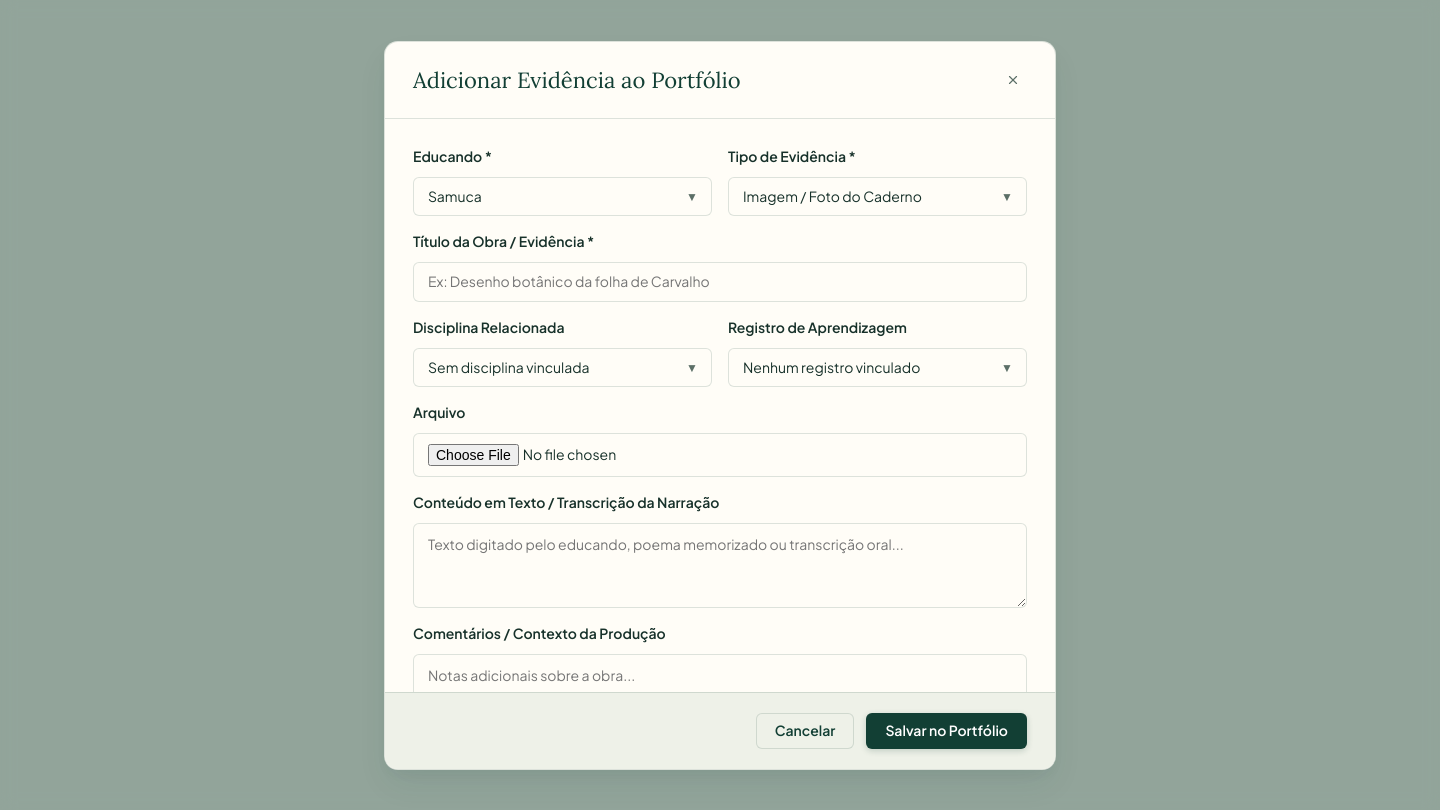
it: Learning Journal, Mastery & Portfolio Web Components › PortfolioItemModal file upload › shows a file input for IMAGE evidence and an external URL field for LINK evidence
The image size is (1440, 810).
Check: the file field with test id "portfolio-file-input" is shown, box [413,433,1027,477]
Select "Link Externo" in the dropdown with test id "portfolio-type-select": (878, 196) [728,176,1027,216]
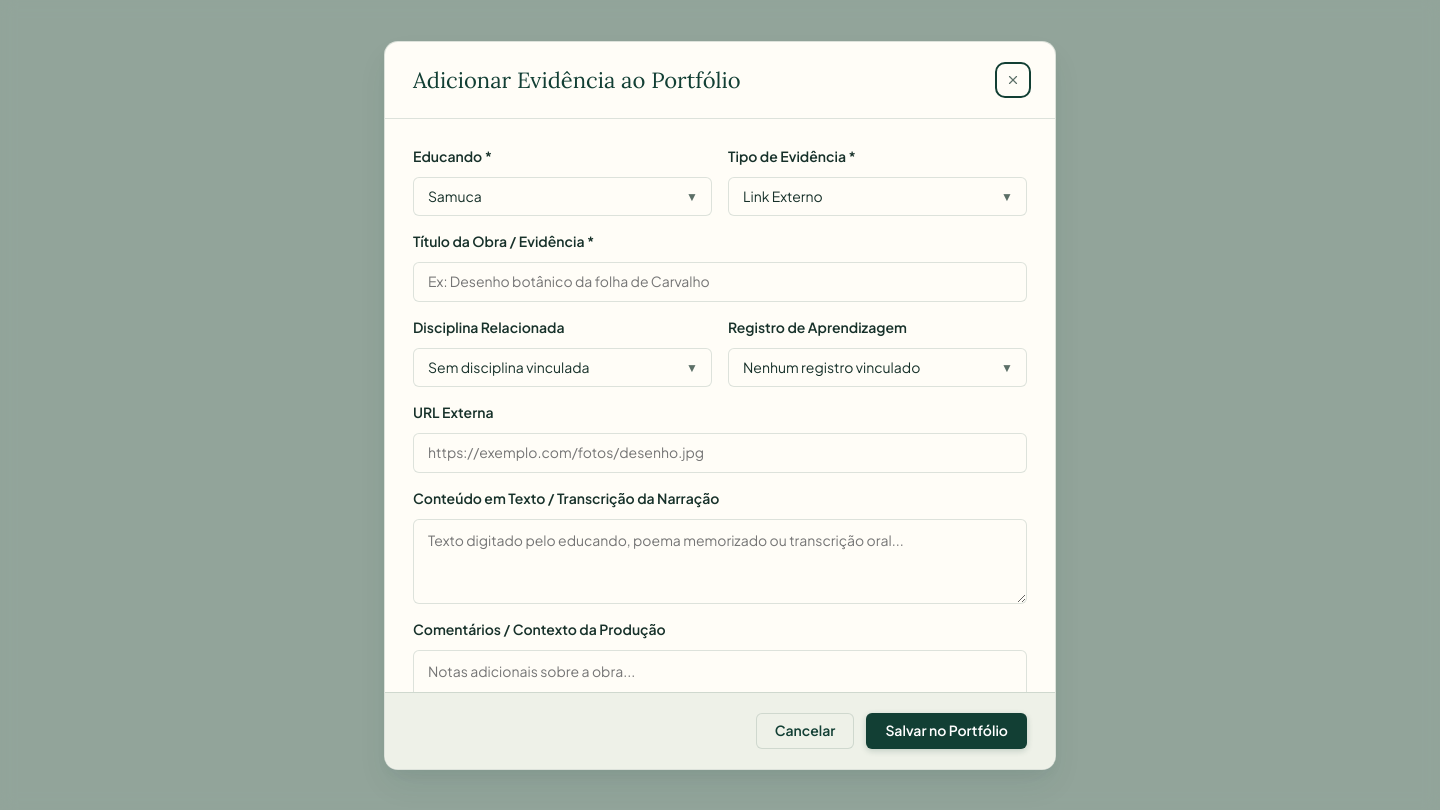
Check: the field with test id "portfolio-file-url-input" is shown, box [413,433,1027,472]
Check: the file field with test id "portfolio-file-input" is gone
